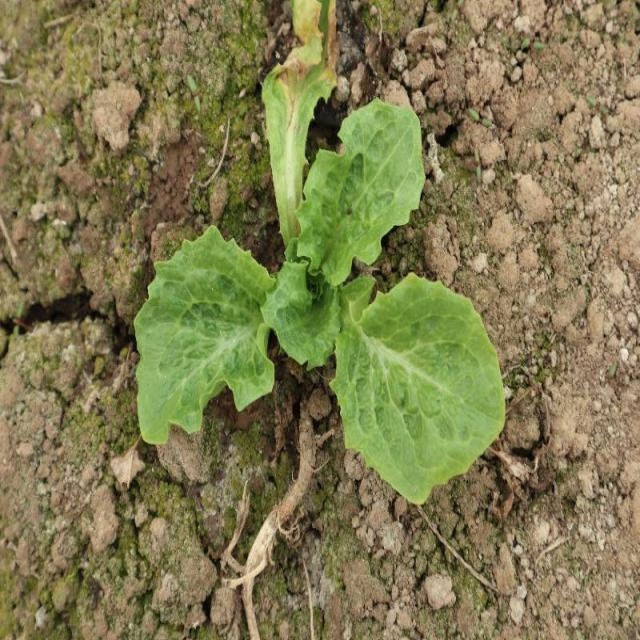crop: (132, 2, 509, 506)
